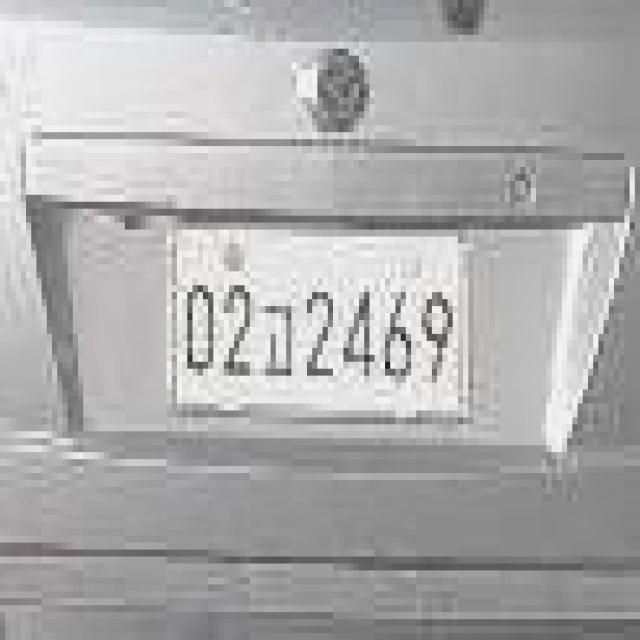illegal_plate: (165, 217, 475, 431)
